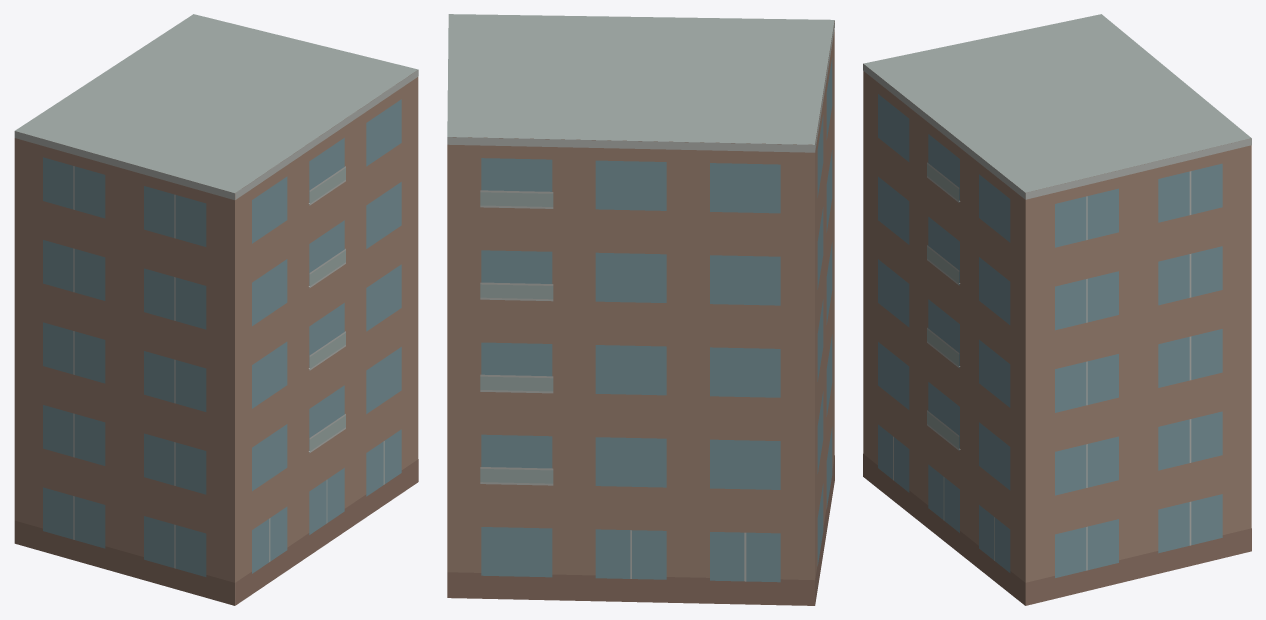
The model's file is survey-upis-32704073.glb.
3 views of the same model, side by side, from view 1: azimuth 30°, elevation 25°; view 2: azimuth 150°, elevation 25°; view 3: azimuth 270°, elevation 25° (orthographic). The views are drawn at different scales.
Parts seen in each view (by area): view 1: survey-upis-32704073.tmp; view 2: survey-upis-32704073.tmp; view 3: survey-upis-32704073.tmp.
Boxes of the visible parts, x1=… form: survey-upis-32704073.tmp: x1=14, y1=14, x2=418, y2=605; survey-upis-32704073.tmp: x1=447, y1=14, x2=834, y2=605; survey-upis-32704073.tmp: x1=863, y1=14, x2=1251, y2=605.
Bounding box in the file's own units: 13.28 × 14.3 × 12.2.
